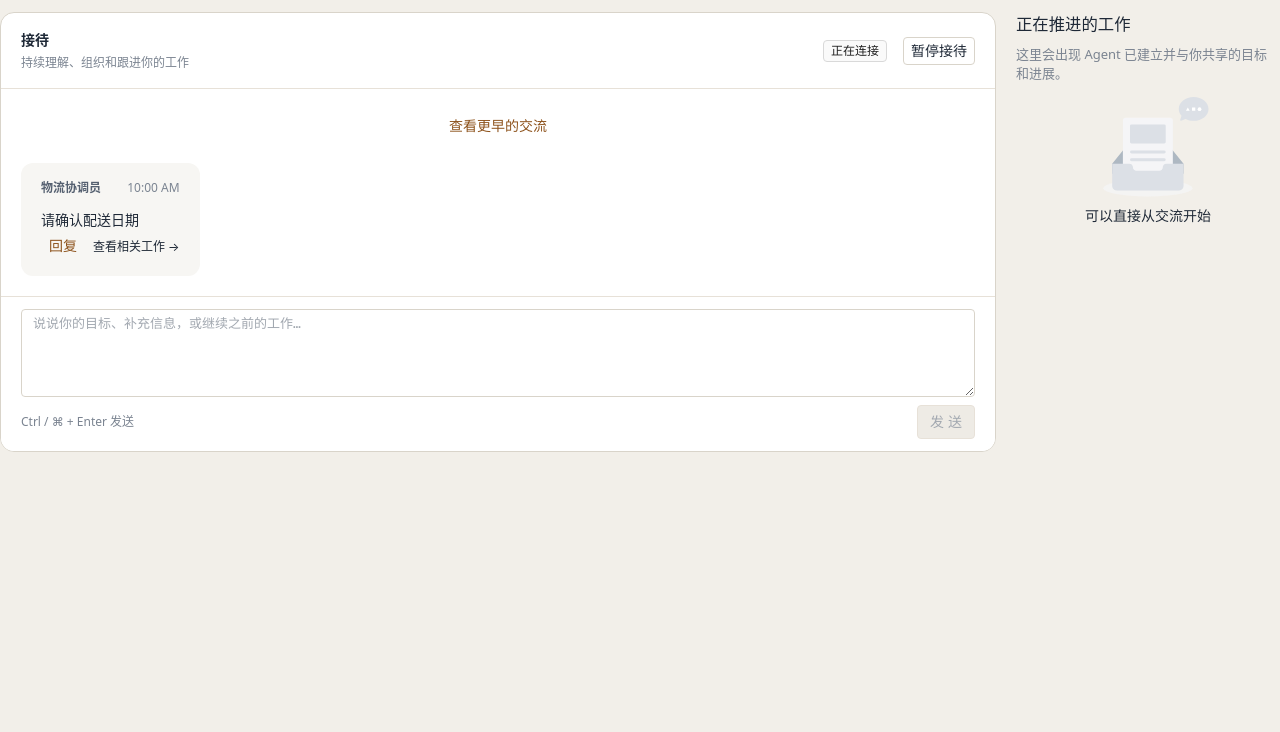
Test: shared participant conversation › keeps loaded older messages when a live snapshot arrives
The width and height of the screenshot is (1280, 732).
Click the button "查看更早的交流" at (498,126), box [21,109,975,143]
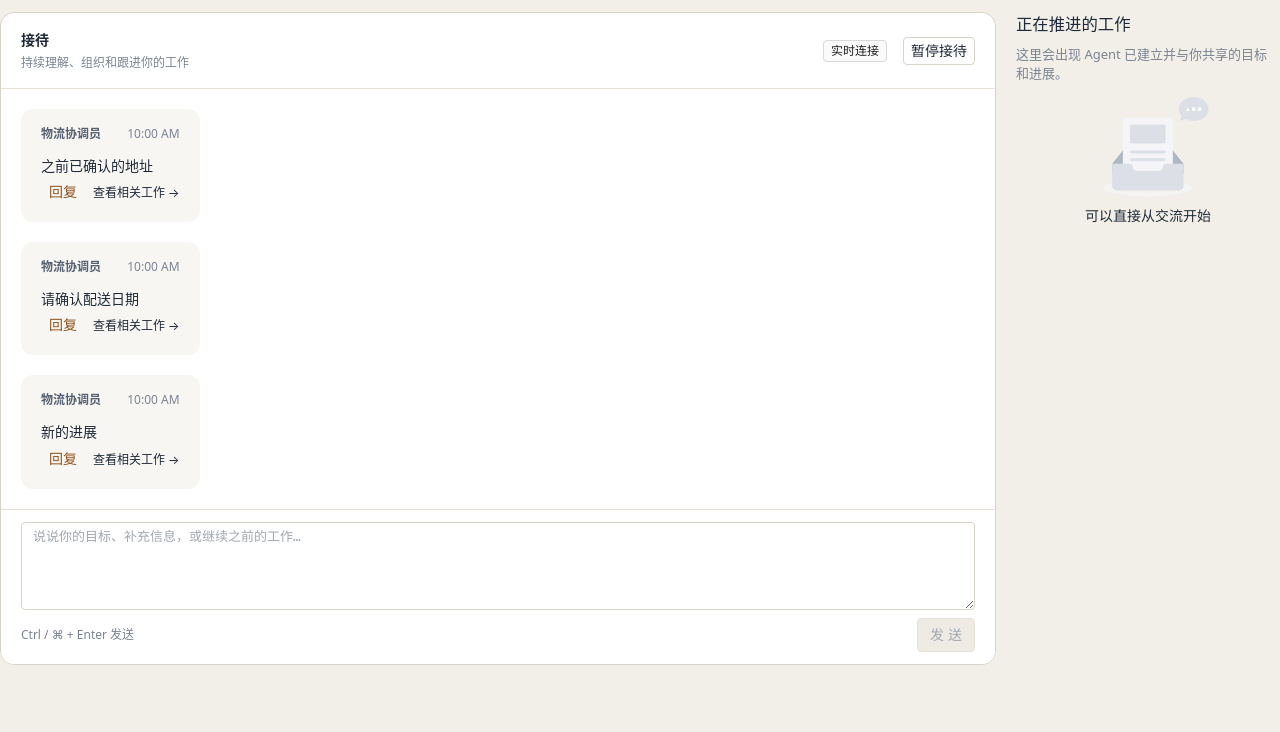
Check: the text "之前已确认的地址" is shown, box [41,156,153,175]
Check: the text "新的进展" is shown, box [41,422,97,441]
